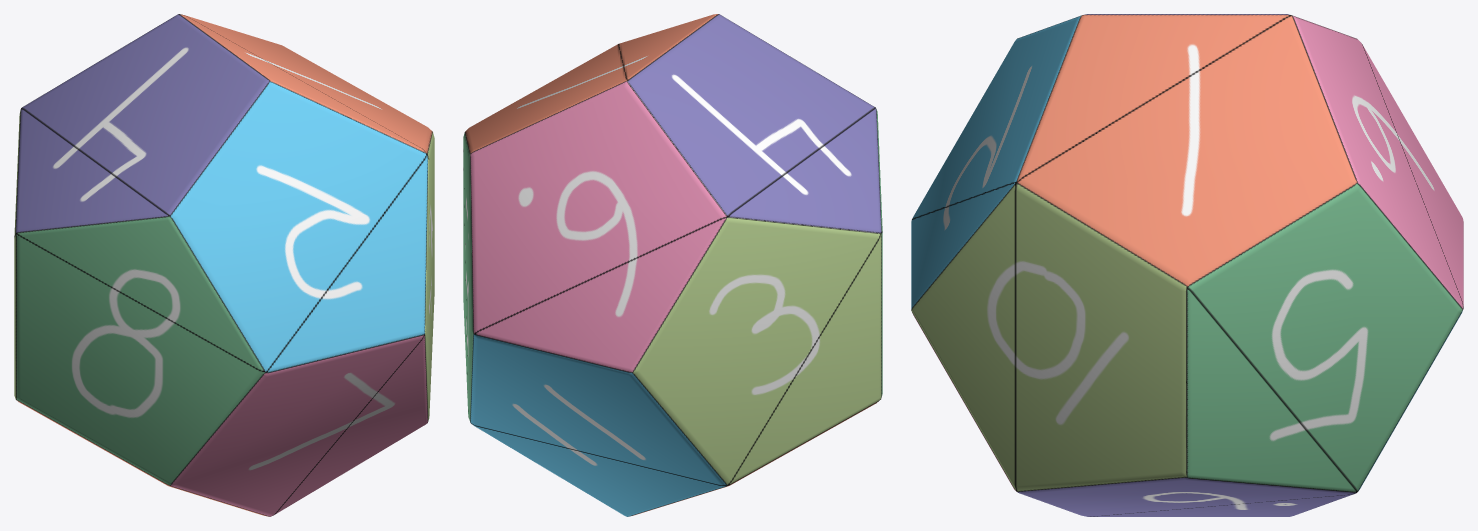
3 views of the same model, side by side, from view 1: azimuth 30°, elevation 25°; view 2: azimuth 150°, elevation 25°; view 3: azimuth 270°, elevation 25° (orthographic). The views are drawn at different scales.
Visible parts, largest first — view 1: dodecahedron; view 2: dodecahedron; view 3: dodecahedron.
Boxes of the visible parts, box(x1,y1,x2,y2) form: dodecahedron: box(14, 14, 434, 516); dodecahedron: box(463, 14, 882, 516); dodecahedron: box(911, 14, 1463, 516).
Bounding box in the file's own units: 1.85 × 1.85 × 1.85.
1 material, 1 textured.
